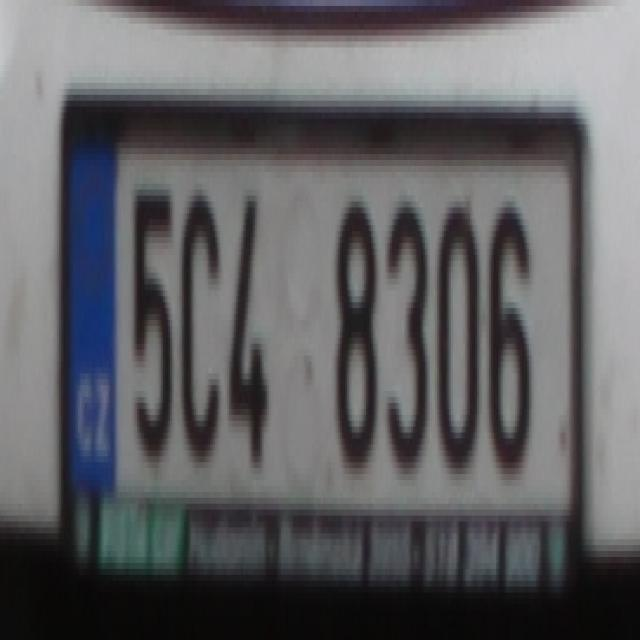0: (434, 196, 478, 468)
3: (384, 190, 428, 468)
4: (226, 178, 270, 462)
5: (126, 172, 172, 468)
6: (486, 196, 532, 480)
8: (331, 184, 378, 480)
C: (177, 184, 220, 456)
